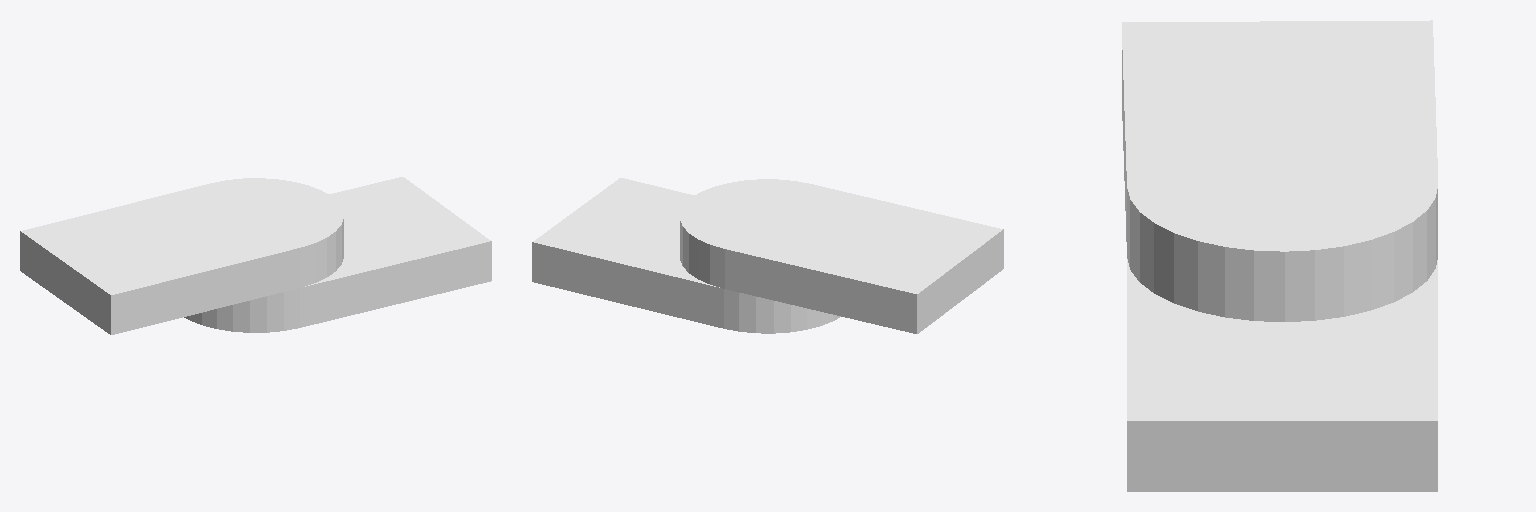
The robot description file, URDF, robot "testgroup":
<?xml version="1.0" encoding="utf-8"?>
<!-- This URDF was automatically created by SolidWorks to URDF Exporter! Originally created by Stephen Brawner (brawner@gmail.com) 
     Commit Version: 1.6.0-4-g7f85cfe  Build Version: 1.6.7995.38578
     For more information, please see http://wiki.ros.org/sw_urdf_exporter -->
<robot
  name="testgroup">
  <!-- customize start -->
  <mujoco>
      <compiler meshdir="" 
        balanceinertia="true" 
        discardvisual="false"/>
  </mujoco>
  <link name="world"></link>
  <joint name="floating_base_joint" type="floating">
    <parent link="world" />
    <child link="base_link"/>
  </joint>
<!-- customize end  -->
  <link
    name="base_link">
    <inertial>
      <origin
        xyz="-0.056985 0.2 -6.9389E-18"
        rpy="0 0 0" />
      <mass
        value="32.861" />
      <inertia
        ixx="0.48412"
        ixy="-4.6472E-16"
        ixz="-5.3117E-18"
        iyy="1.2479"
        iyz="2.4633E-18"
        izz="1.6772" />
    </inertial>
    <visual>
      <origin
        xyz="0 0 0"
        rpy="0 0 0" />
      <geometry>
        <mesh
          filename="base_link.STL" />
      </geometry>
      <material
        name="">
        <color
          rgba="1 1 1 1" />
      </material>
    </visual>
    <collision>
      <origin
        xyz="0 0 0"
        rpy="0 0 0" />
      <geometry>
        <mesh
          filename="base_link.STL" />
      </geometry>
    </collision>
  </link>
  <link
    name="roller1_link">
    <inertial>
      <origin
        xyz="-0.16993 -0.0023717 0.05"
        rpy="0 0 0" />
      <mass
        value="37.322" />
      <inertia
        ixx="0.49917"
        ixy="-0.0127"
        ixz="-1.0622E-16"
        iyy="1.4089"
        iyz="-2.8453E-17"
        izz="1.8459" />
    </inertial>
    <visual>
      <origin
        xyz="0 0 0"
        rpy="0 0 0" />
      <geometry>
        <mesh
          filename="roller1_link.STL" />
      </geometry>
      <material
        name="">
        <color
          rgba="1 1 1 1" />
      </material>
    </visual>
    <collision>
      <origin
        xyz="0 0 0"
        rpy="0 0 0" />
      <geometry>
        <mesh
          filename="roller1_link.STL" />
      </geometry>
    </collision>
  </link>
  <joint
    name="roller1_joint"
    type="revolute">
    <origin
      xyz="-0.25 0.2 0.05"
      rpy="0 0 0" />
    <parent
      link="base_link" />
    <child
      link="roller1_link" />
    <axis
      xyz="0 0 1" />
    <limit
      lower="-1"
      upper="1"
      effort="100"
      velocity="100" />
  </joint>
</robot>

--- What the picture shows (computed from the rendered views, not written in the file) ---
3 views of the same robot in one strip: view 1: azimuth 30°, elevation 25°; view 2: azimuth 150°, elevation 25°; view 3: azimuth 270°, elevation 25° (orthographic).
Robot: testgroup — 3 links, 2 joints (1 revolute, 1 floating); root link world; default pose: all joints at 0.
Visible links, largest first — view 1: roller1_link, base_link; view 2: roller1_link, base_link; view 3: roller1_link, base_link.
Link boxes in pixels (left/top/right/bottom): roller1_link: left=20, top=178, right=343, bottom=334; base_link: left=184, top=177, right=491, bottom=332; roller1_link: left=680, top=179, right=1003, bottom=333; base_link: left=532, top=178, right=840, bottom=333; roller1_link: left=1122, top=20, right=1437, bottom=321; base_link: left=1127, top=259, right=1437, bottom=491.
Size in the robot's own frame: 1 by 0.407 by 0.2 metres.
Meshes: 2 distinct files referenced, 2 mesh visuals loaded (2 binary STL).
